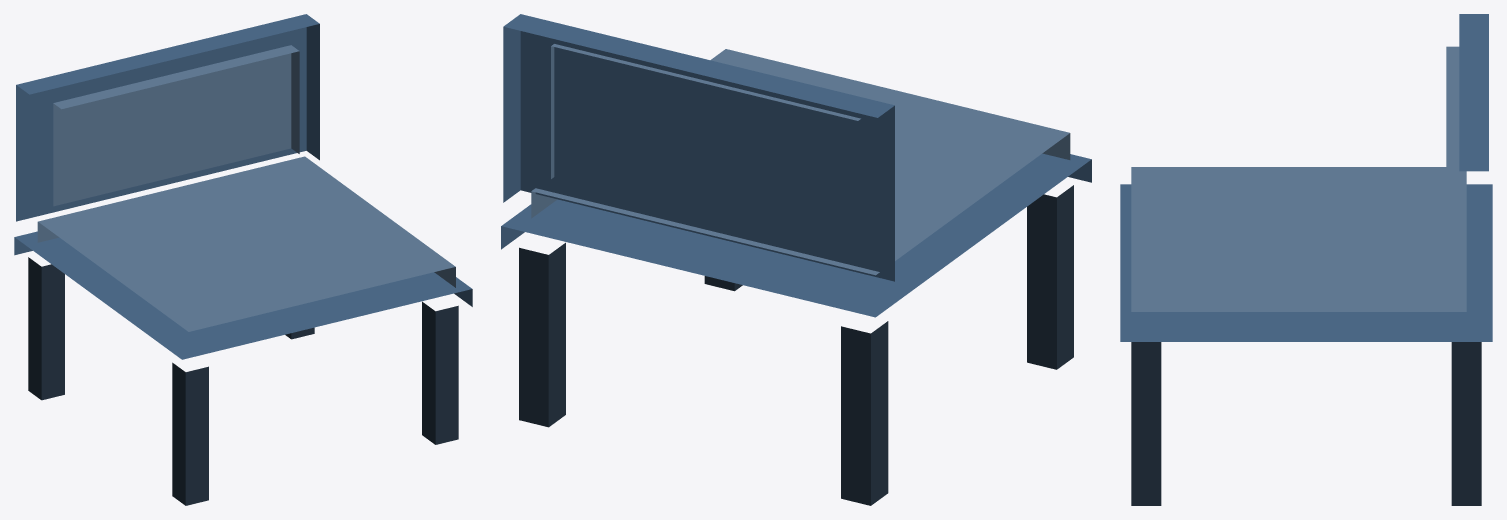
Rendered from Chair-blue.glb.
3 views of the same model, side by side, from view 1: azimuth 30°, elevation 25°; view 2: azimuth 150°, elevation 25°; view 3: azimuth 270°, elevation 25° (orthographic). The views are drawn at different scales.
Parts seen in each view (by area): view 1: Chair; view 2: Chair; view 3: Chair.
Boxes of the visible parts, x1=… form: Chair: x1=14, y1=14, x2=472, y2=505; Chair: x1=501, y1=14, x2=1091, y2=505; Chair: x1=1120, y1=14, x2=1492, y2=505.
Bounding box in the file's own units: 1 × 1 × 1.
